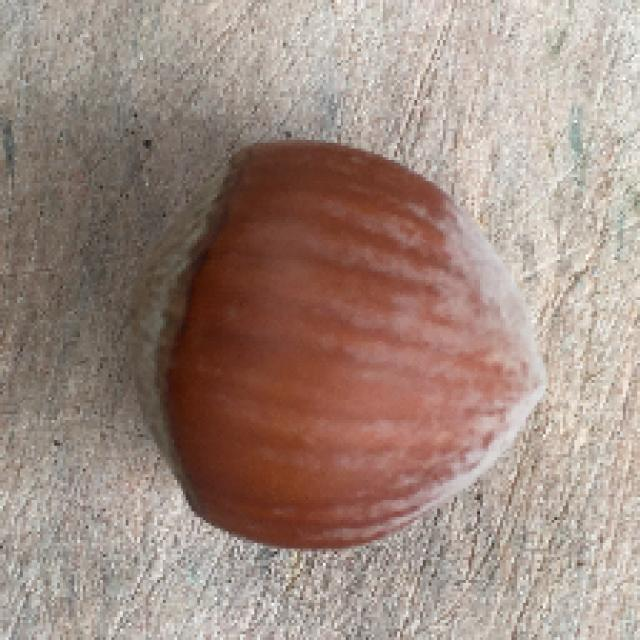QualityHazelnut: (132, 136, 555, 557)
